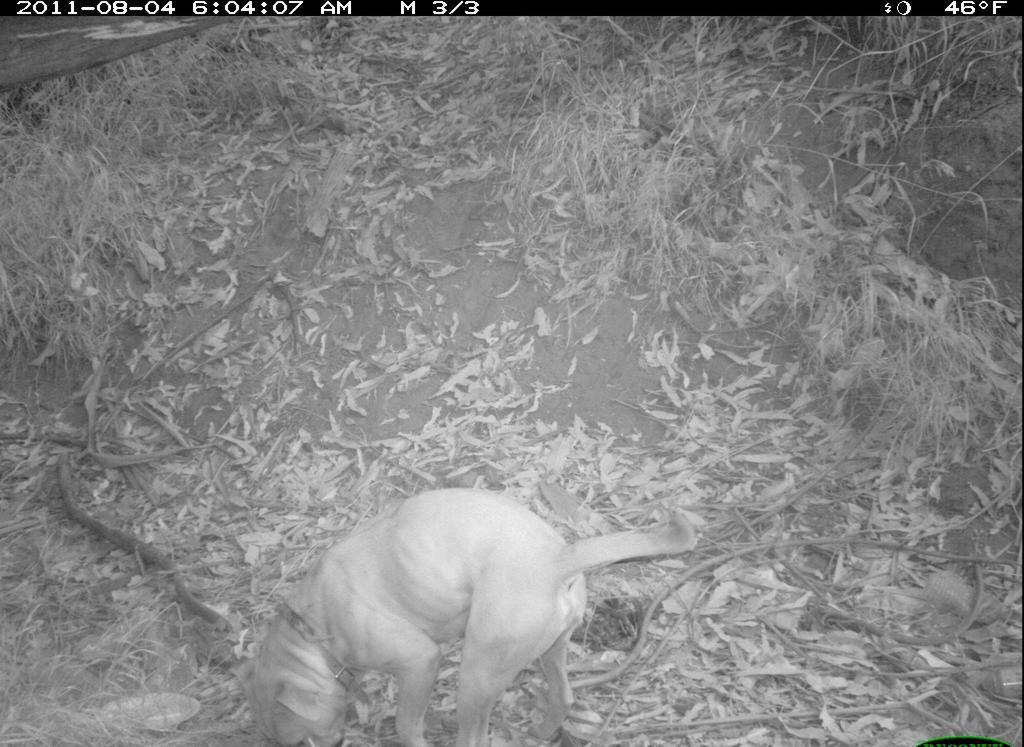dog: (227, 477, 715, 745)
